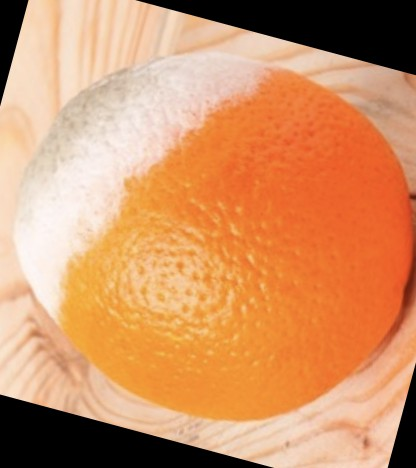rotten_orange: (14, 54, 412, 418)
